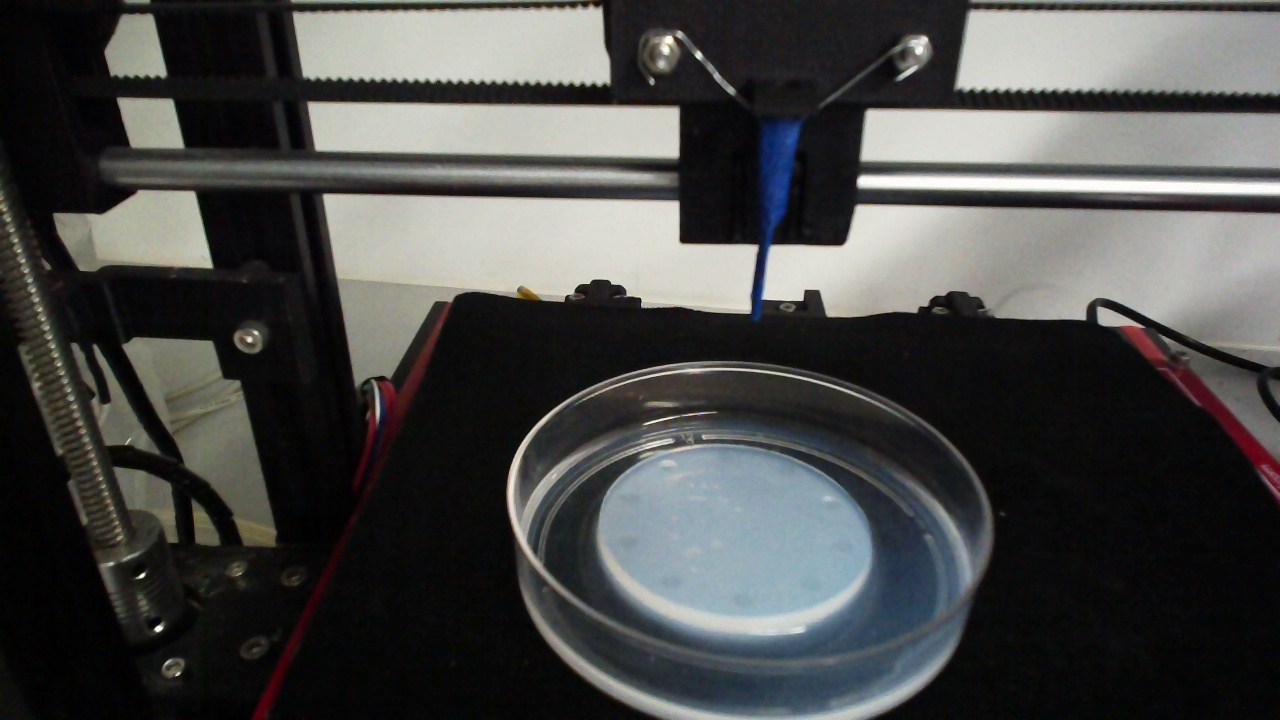groove: (832, 535, 860, 555), (797, 573, 824, 593), (730, 591, 756, 611), (657, 571, 683, 590), (816, 494, 842, 513), (616, 531, 640, 551), (620, 488, 641, 506), (656, 457, 678, 474), (774, 463, 796, 479), (715, 448, 736, 464)
needle: (748, 122, 801, 322)
